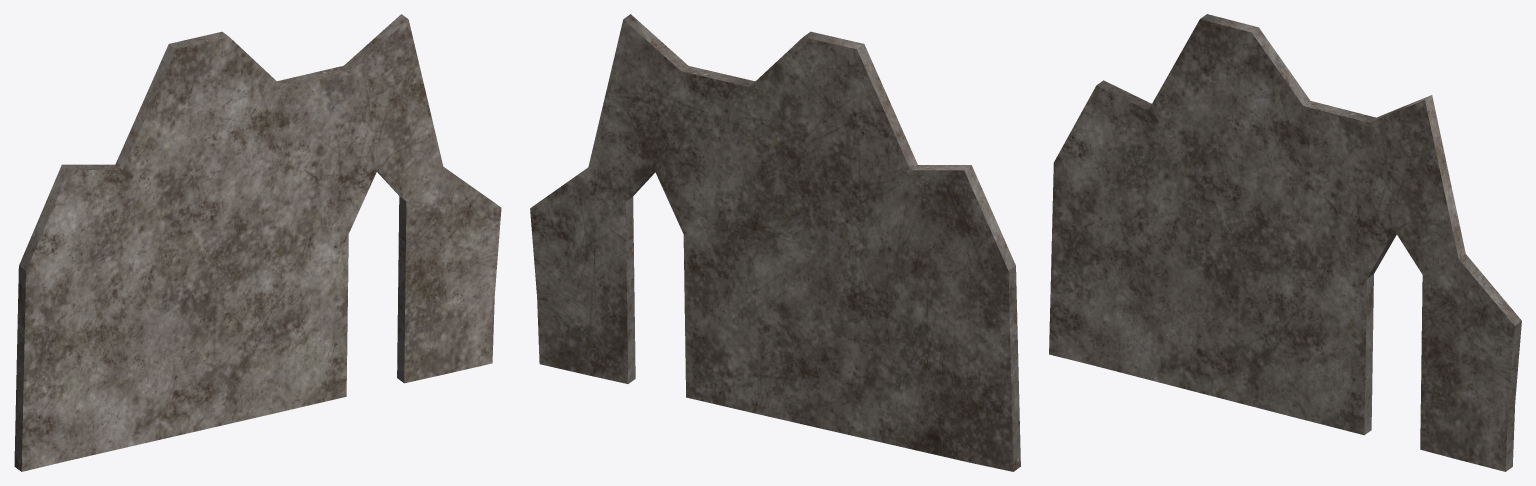
Rendered from SueloEdificio1.obj.
The picture shows the model from 3 angles, left to right: view 1: azimuth 30°, elevation 25°; view 2: azimuth 150°, elevation 25°; view 3: azimuth 330°, elevation 25°; orthographic projection. The views are drawn at different scales.
Parts seen in each view (by area): view 1: Object019; view 2: Object019; view 3: Object019.
Boxes of the visible parts, x1,y1,x2,y2 form: Object019: (14,14,501,471); Object019: (530,14,1020,471); Object019: (1049,14,1521,471).
Bounding box in the file's own units: 120 × 93.51 × 3.62.
1 material, 1 textured.
